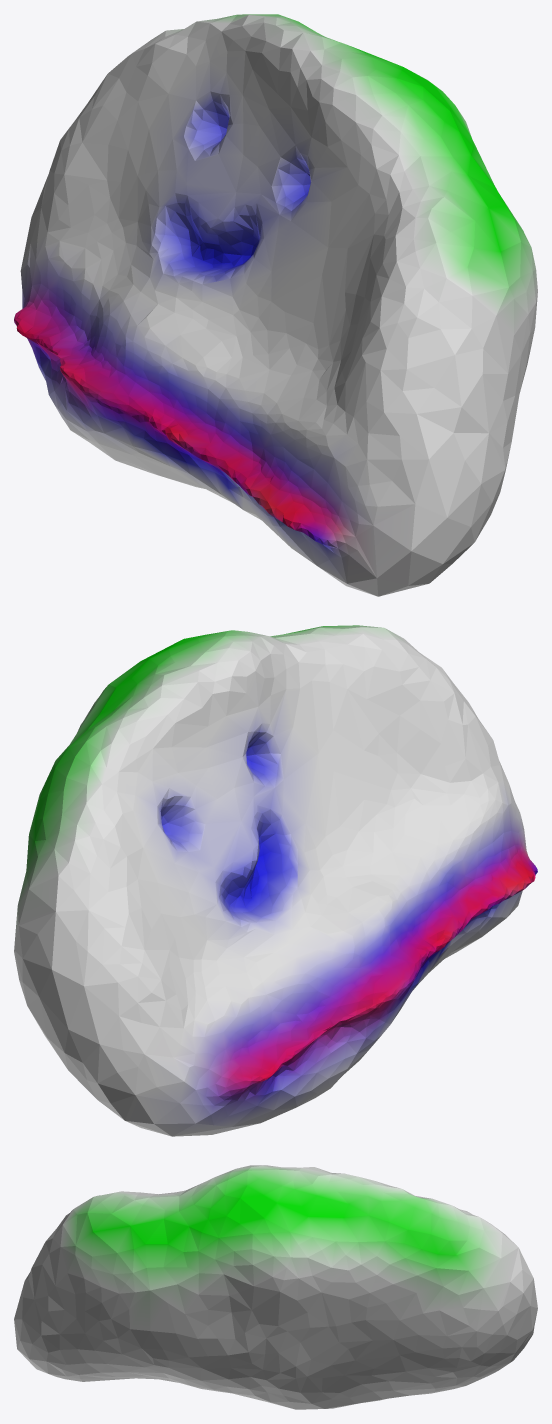
Rendered from Floating Island CliffsEdgeSmile.fbx.
3 views of the same model, one above another, from view 1: azimuth 30°, elevation 25°; view 2: azimuth 150°, elevation 25°; view 3: azimuth 270°, elevation 25° (orthographic). The views are drawn at different scales.
Visible parts, largest first — view 1: Sphere; view 2: Sphere; view 3: Sphere.
Boxes of the visible parts, bbox=[...] form: Sphere: bbox=[14, 14, 537, 596]; Sphere: bbox=[14, 625, 537, 1136]; Sphere: bbox=[14, 1165, 537, 1409].
Size of the model in its own units: 250 by 281 by 506.
